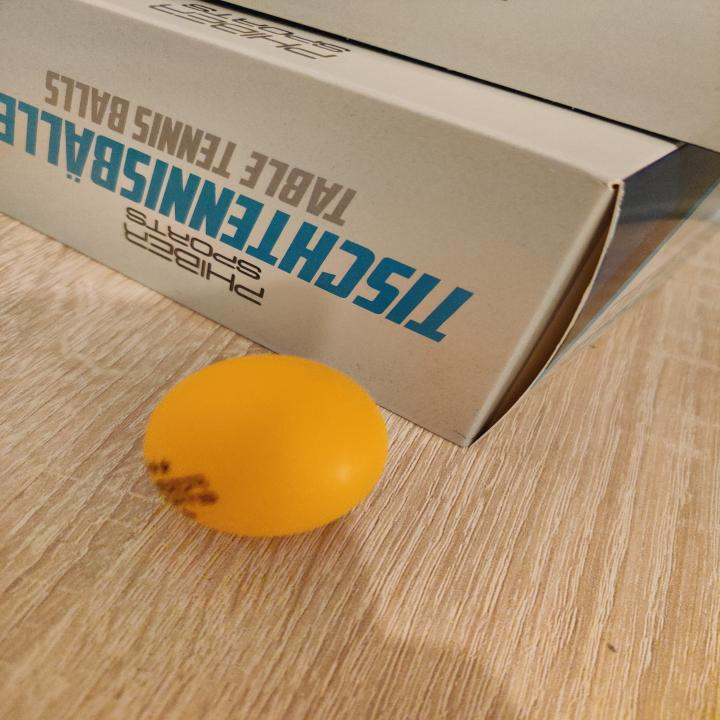orange: (141, 353, 390, 542)
